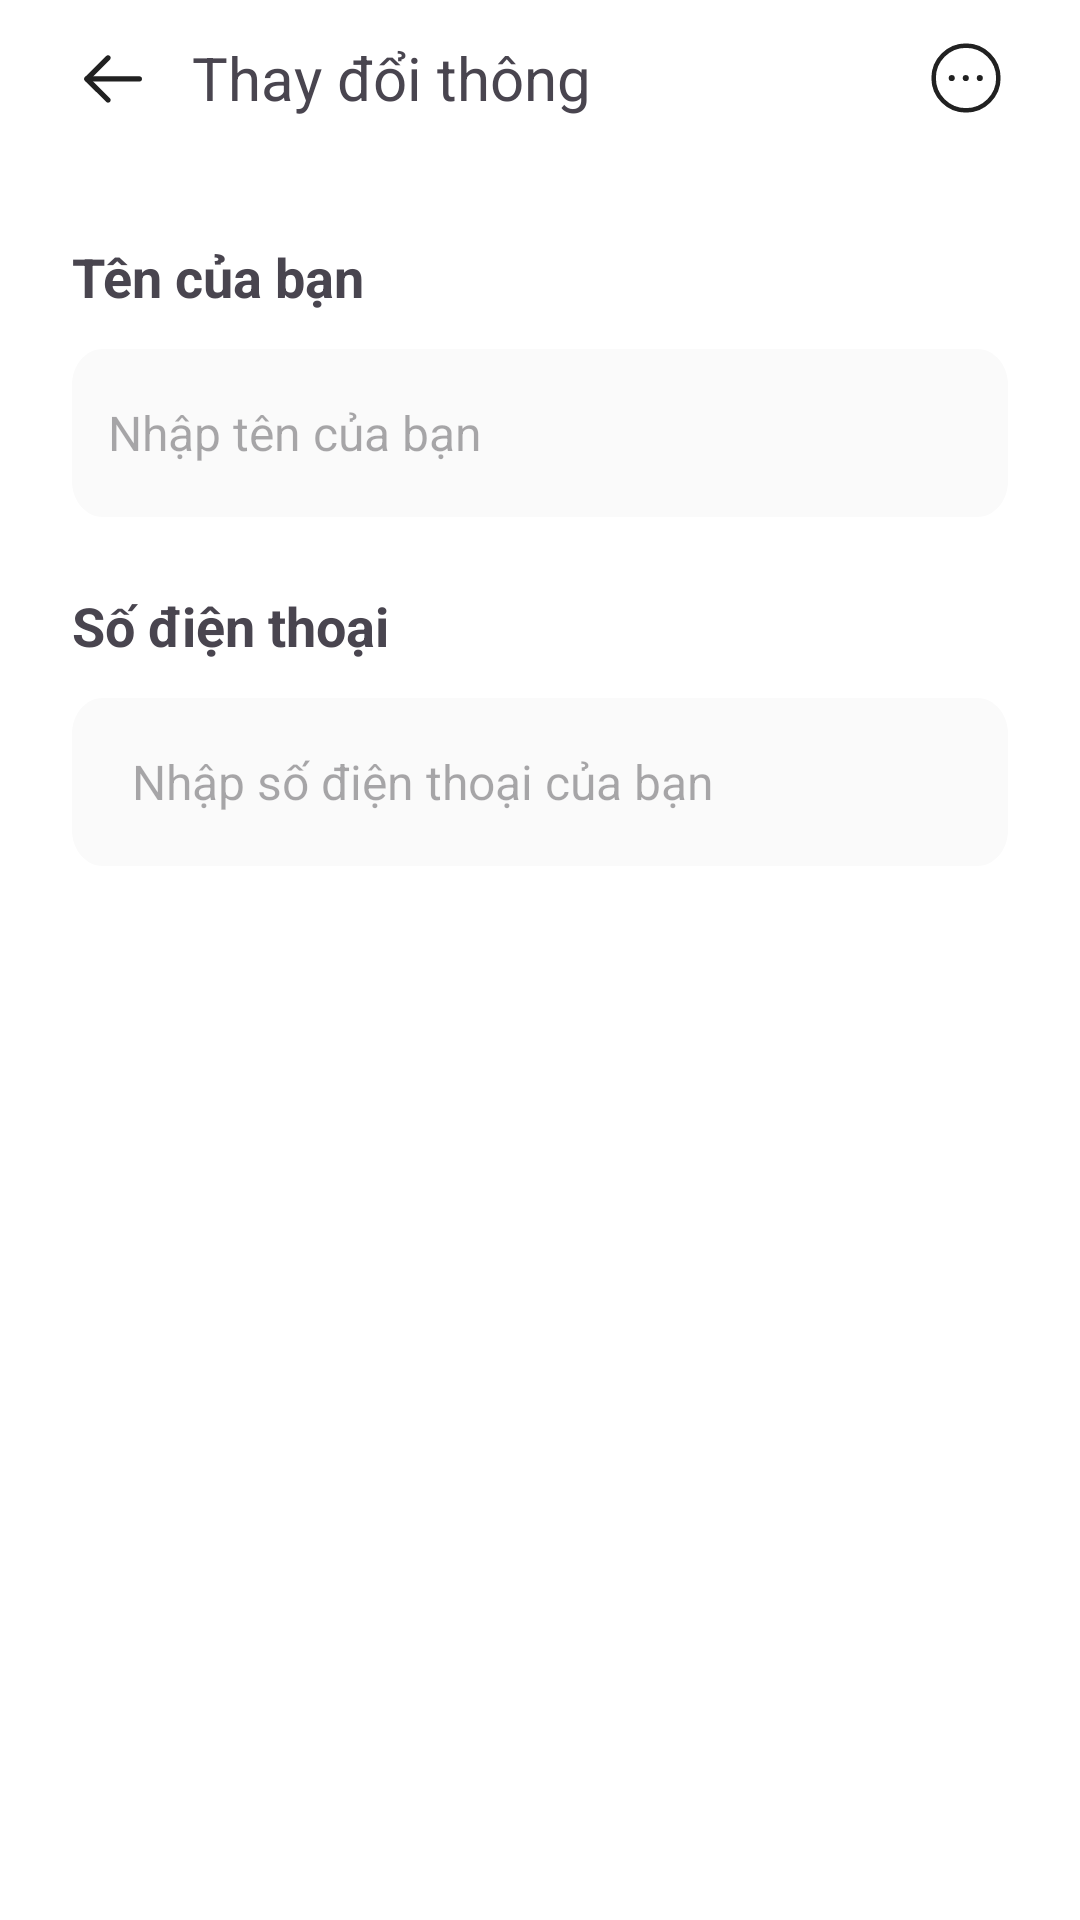

Where icons sit on this 1080*1920 app screen, as (x1, y1, x2, y2):
arrow left: (84, 55, 142, 103)
more circle: (931, 43, 1001, 113)
